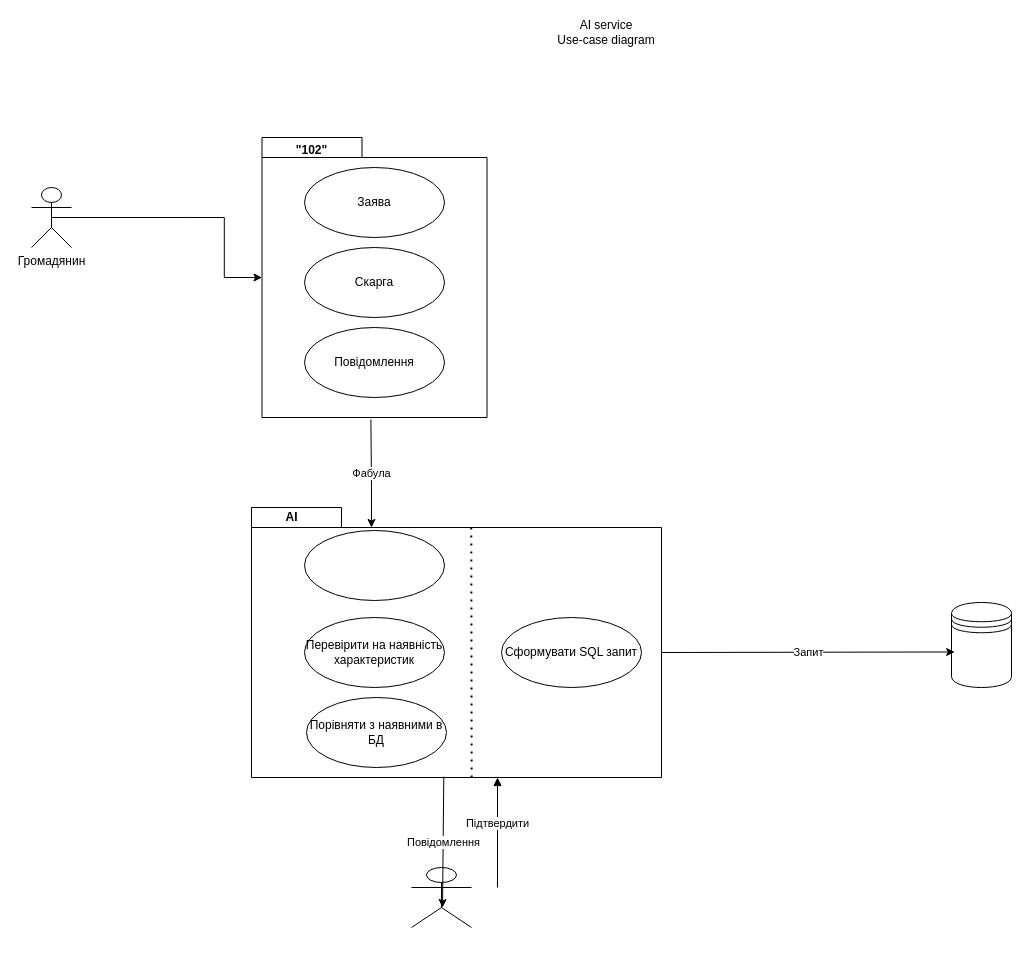
Some shapes in this 1029 by 965 pixel diagram are drawn without their labels. Here are the shapes that lost their labels. From the top down, the centre of each, then its label:
At (374,565): "Екстрагувати інформацію".
At (981,645): "База даних".
At (441,897): "Інспектор".
